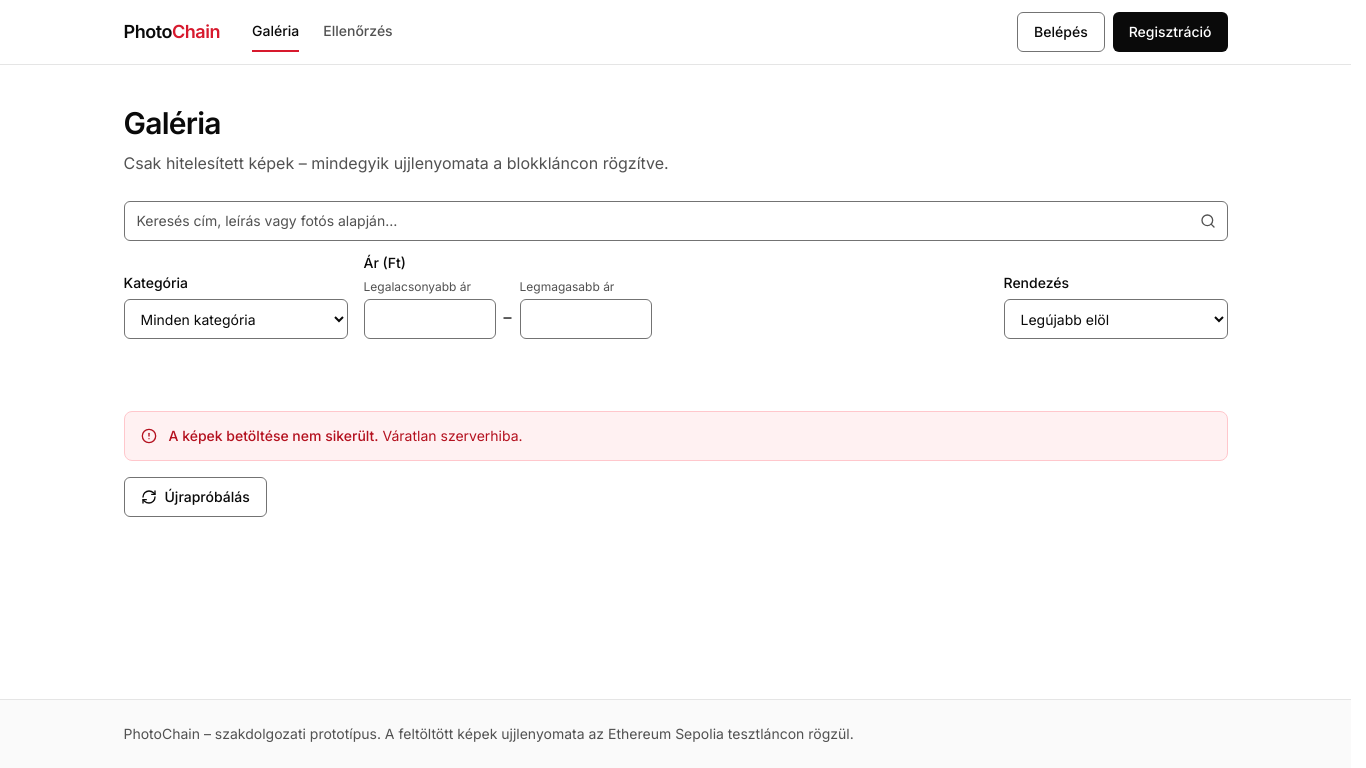
Test case: GalleryPage – betöltés › ha az újrapróbálás is sikertelen, a hibaüzenet újra megjelenik, a fókusz a gombon marad
expect the message "A képek betöltése nem sikerült. Váratlan szerverhiba." is shown: met, box [124, 411, 1228, 461]
Click the button "Újrapróbálás" at (195,497), box [124, 477, 267, 517]
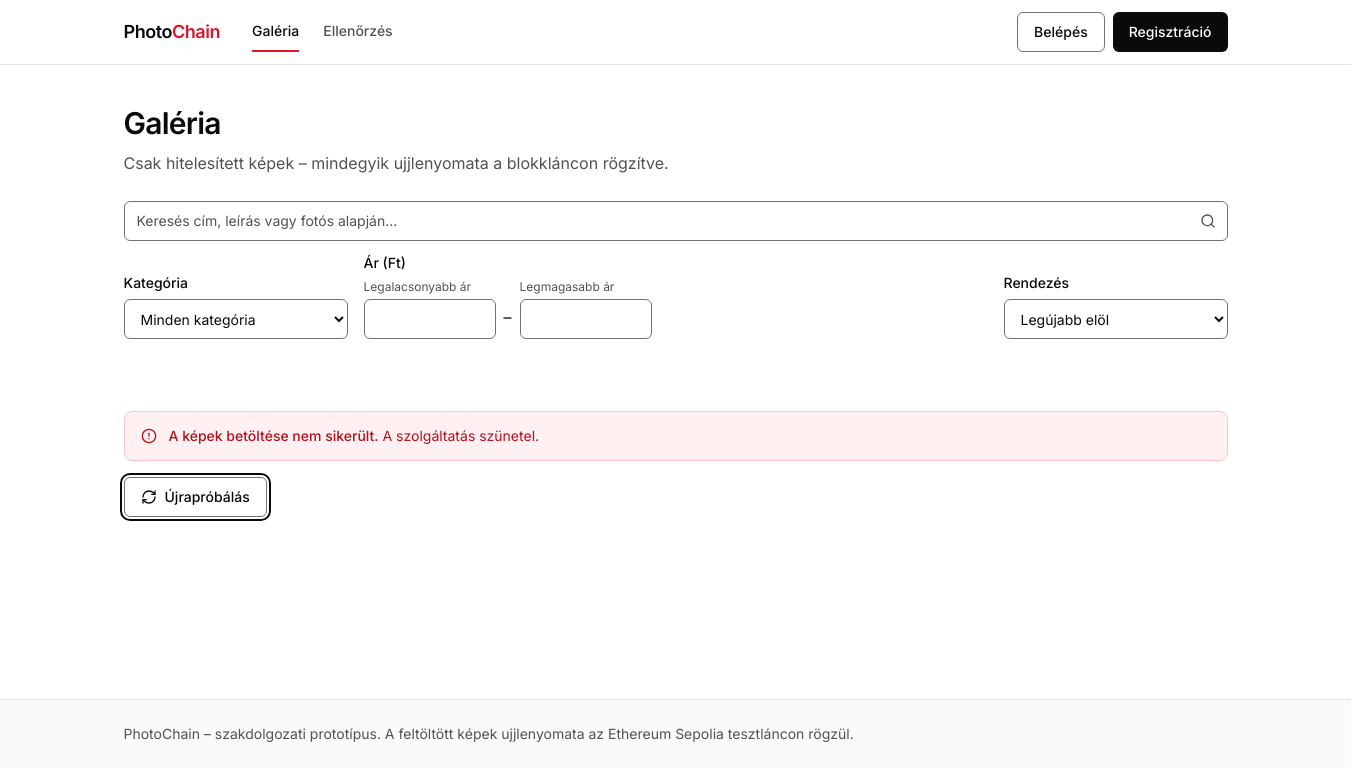
expect the message shows "A szolgáltatás szünetel": met, box [382, 427, 539, 444]
